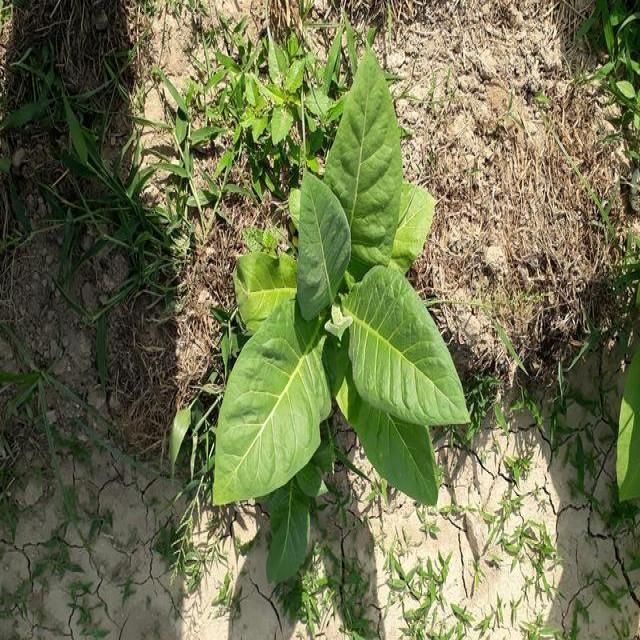crop: (213, 50, 460, 573)
